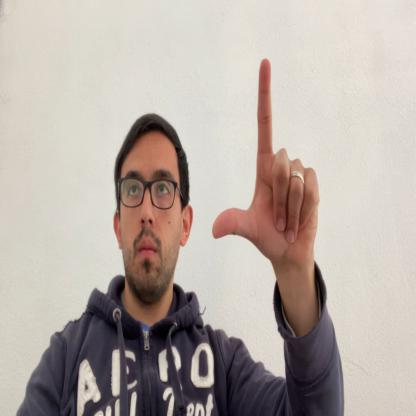L: (212, 57, 320, 273)
